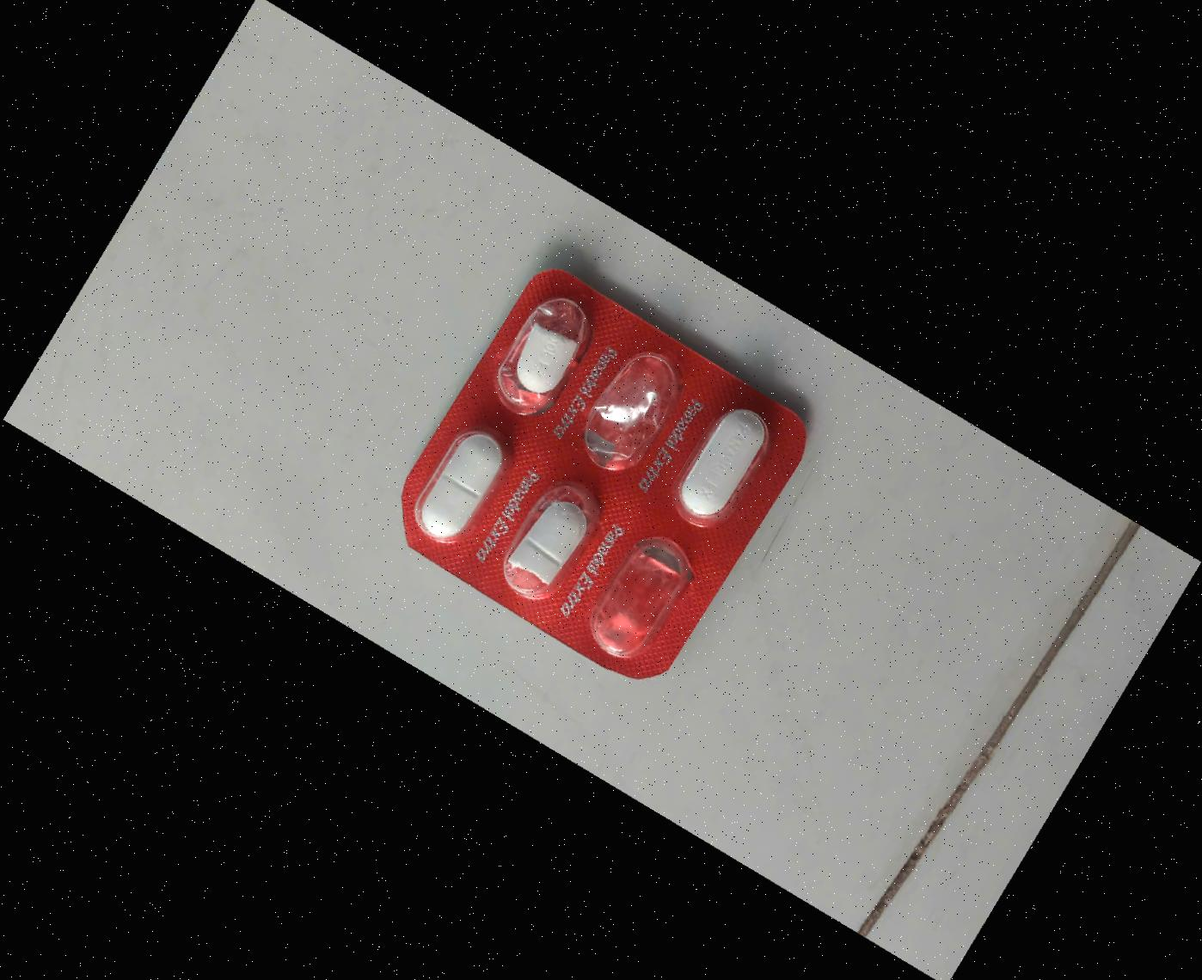Empty: (572, 527, 702, 675), (557, 335, 687, 482)
Full: (661, 386, 791, 534)
Partial: (393, 415, 523, 563), (480, 478, 610, 626), (482, 279, 612, 426)
